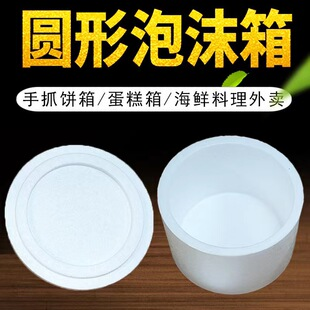Parcel: (156, 136, 303, 294)
